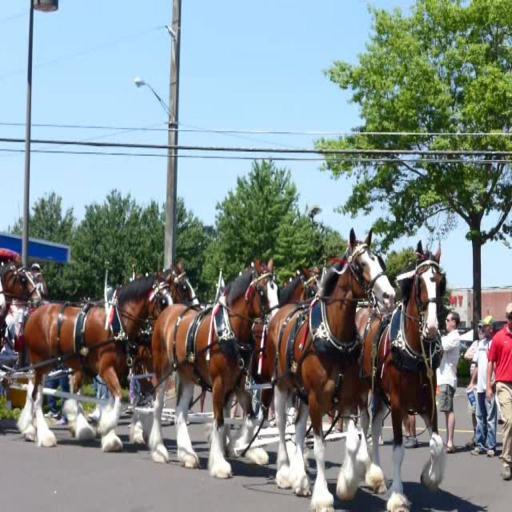horse: (261, 223, 397, 511), (147, 250, 281, 482), (18, 272, 172, 459), (357, 234, 448, 512), (63, 262, 203, 438), (207, 263, 325, 463), (0, 262, 43, 376), (0, 276, 3, 326)
